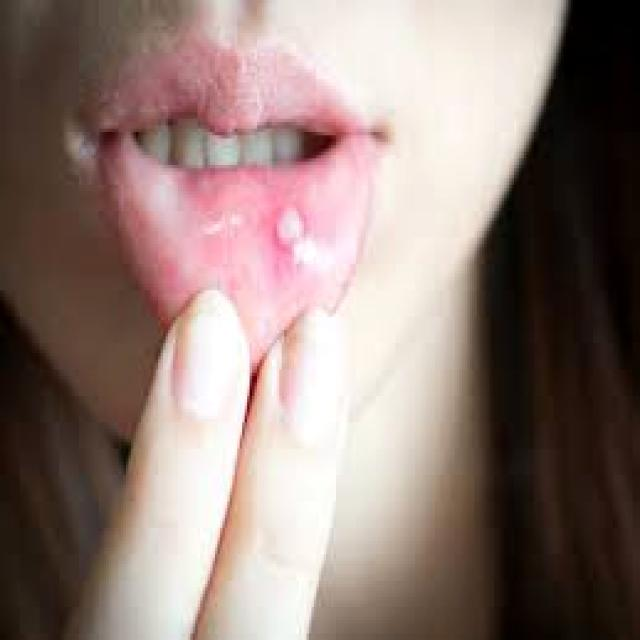ulcer: (277, 211, 301, 244)
